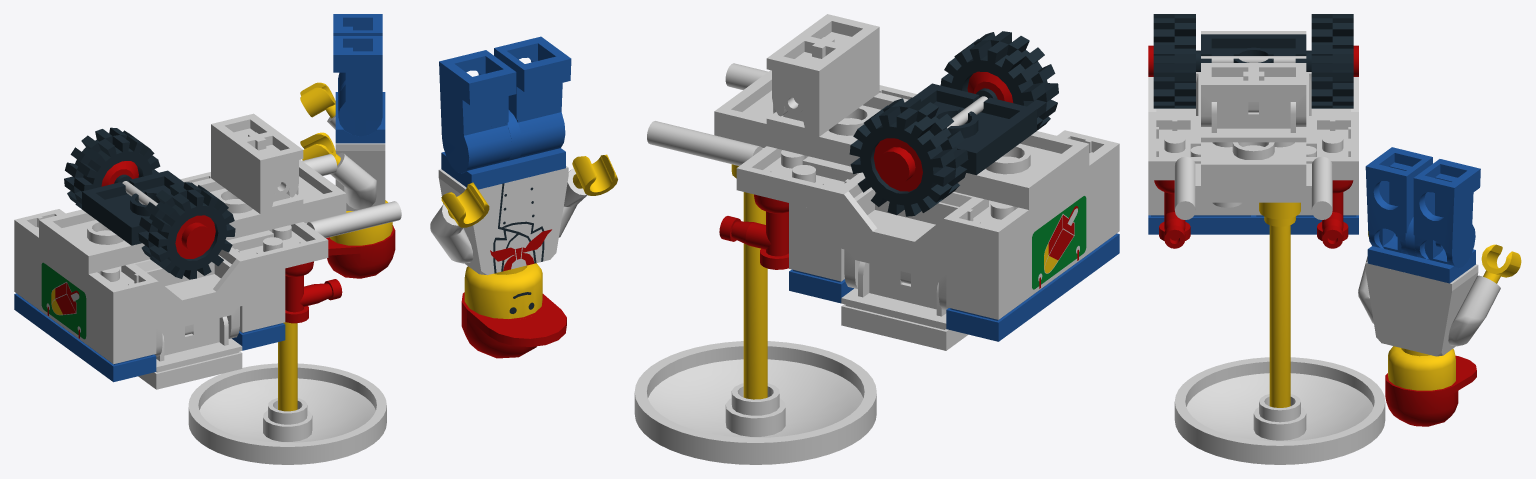
3 renders of one model, left to right at view 1: azimuth 30°, elevation 25°; view 2: azimuth 150°, elevation 25°; view 3: azimuth 270°, elevation 25°, orthographic. The views are drawn at different scales.
Size of the model in its own units: 193 by 148 by 142.
